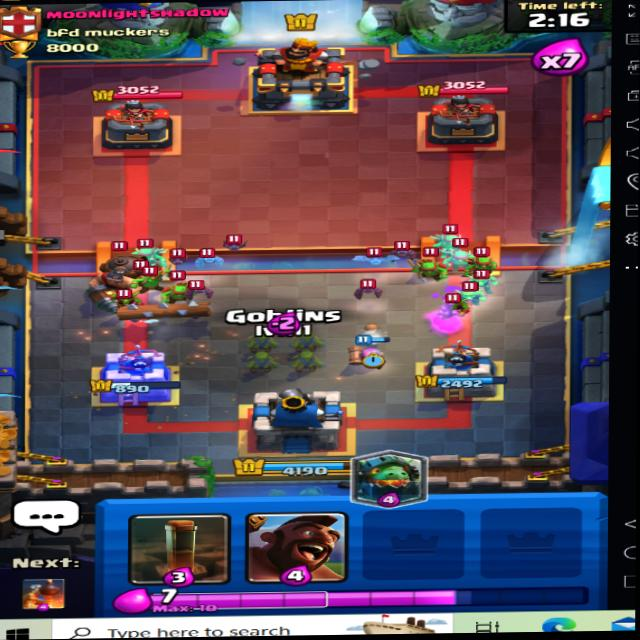Bat: (205, 230, 257, 257), (157, 245, 203, 267), (187, 279, 223, 303), (352, 275, 384, 299), (384, 238, 412, 265)
Goblin: (433, 295, 476, 318), (110, 285, 137, 312)
Mightyminer: (89, 239, 169, 314)
Speargoblin: (167, 277, 210, 310), (410, 257, 448, 286), (474, 250, 501, 278)
